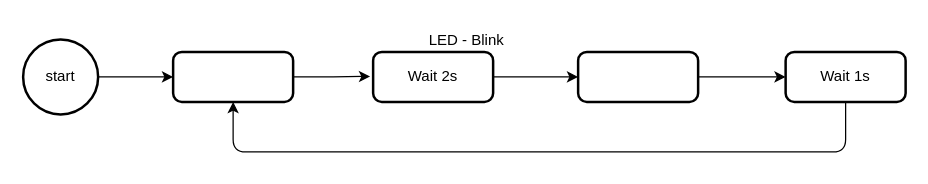
The diagram is 928 pixels wide and 184 high, and some of its shapes have lost their labels. Each missing label, with the centre of its shape:
LED_OFF: point (637, 76)
LED_ON: point (232, 76)
